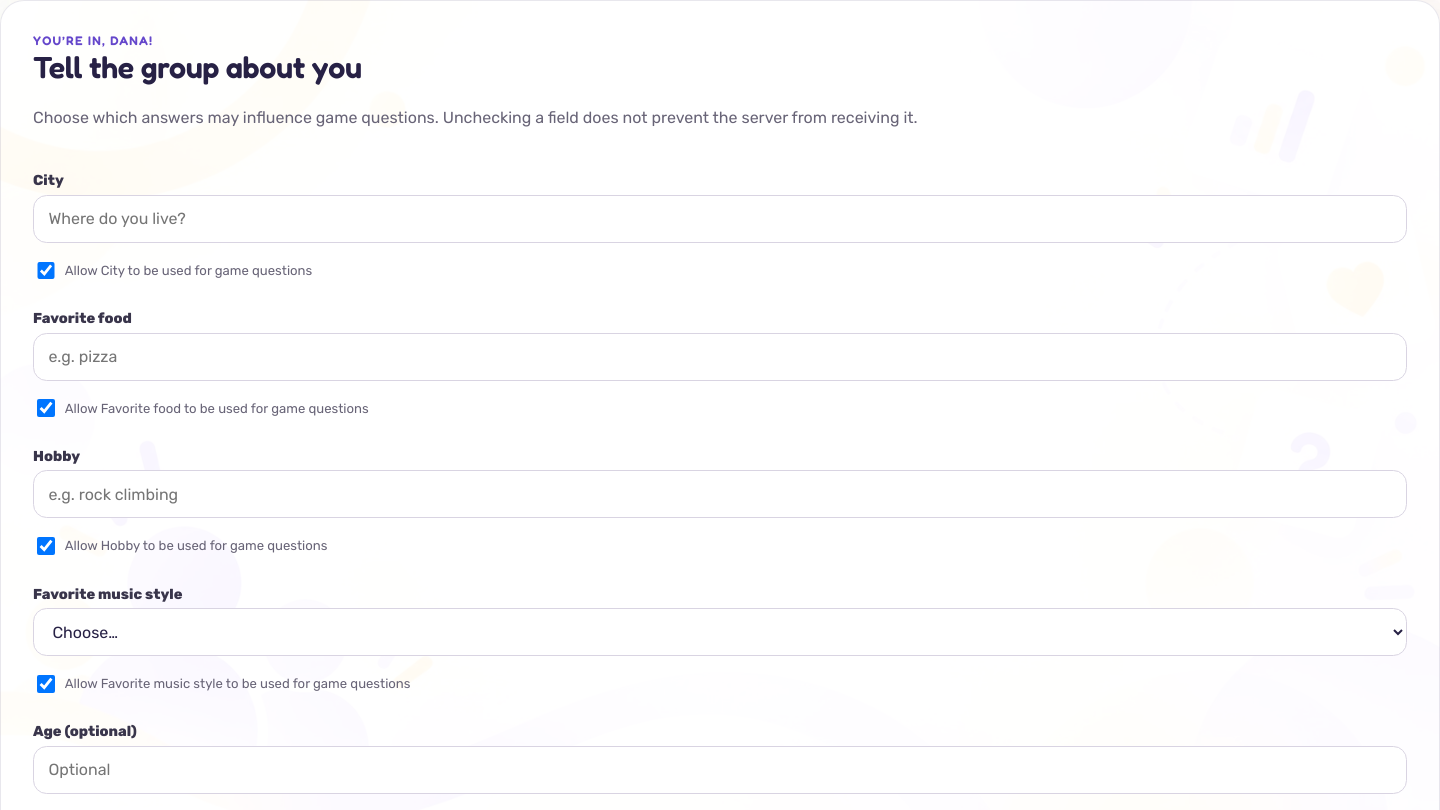
Test case: profile type-ahead › lists server completions under the field and fills the picked one
The width and height of the screenshot is (1440, 810).
Type "קריית" into the dropdown labelled "City" at point(720, 219), box [33,195,1407,243]
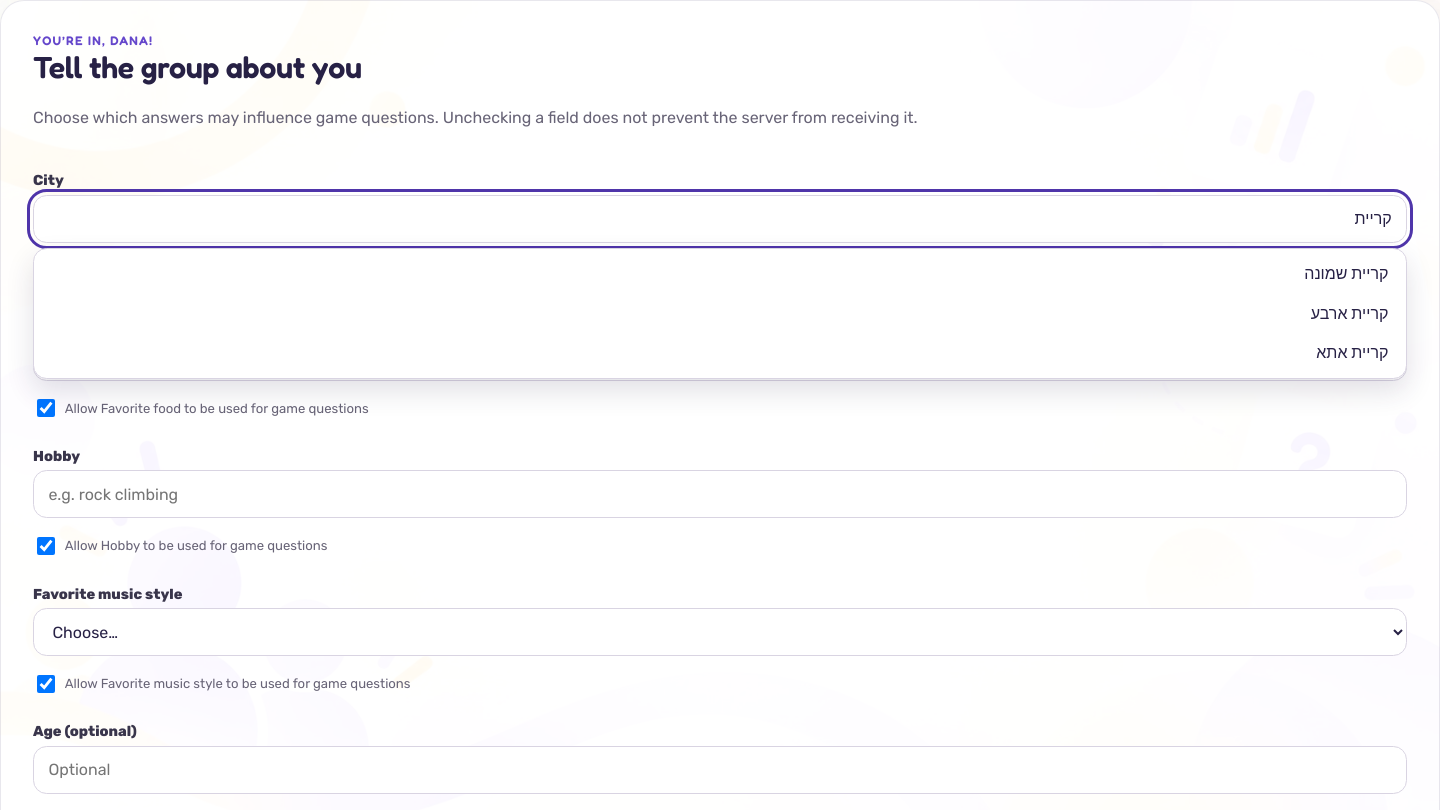
Now the options read "קריית שמונה", "קריית ארבע", "קריית אתא", in this order
Click the option "קריית ארבע" at point(1350, 313), box [1311,304,1388,322]
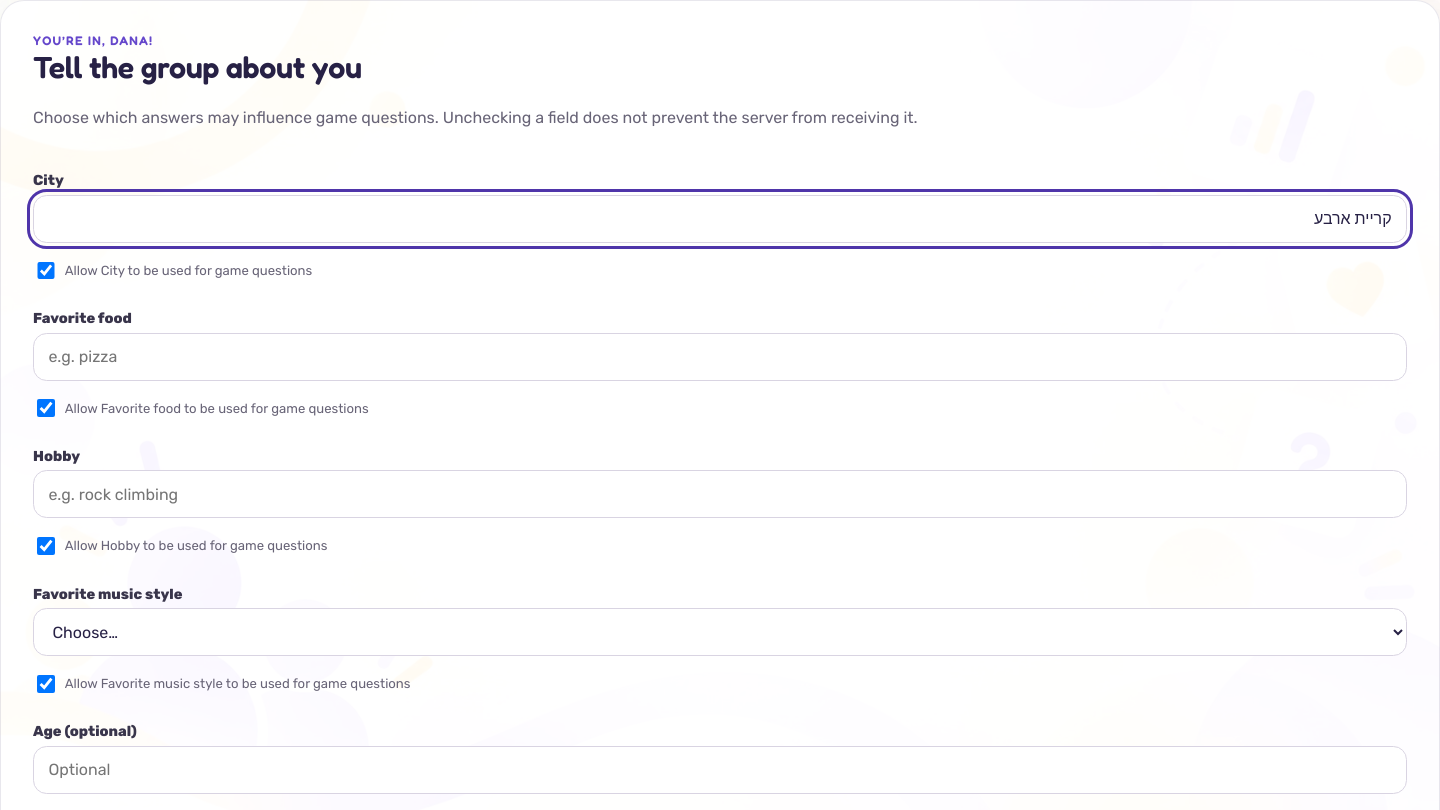
Now the dropdown labelled "City" holds "קריית ארבע", box [33,195,1407,243]
Now no options are shown
